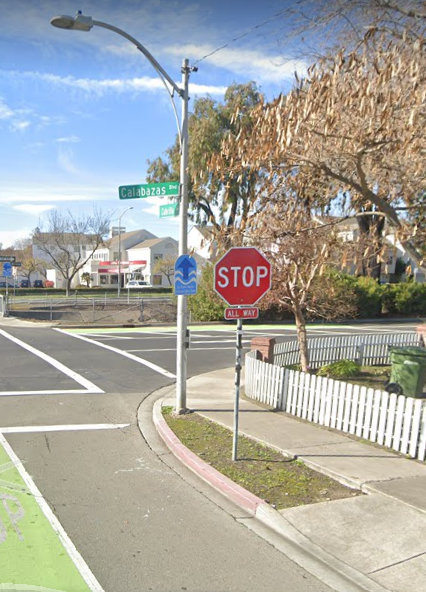stop_sign: (215, 248, 273, 305)
